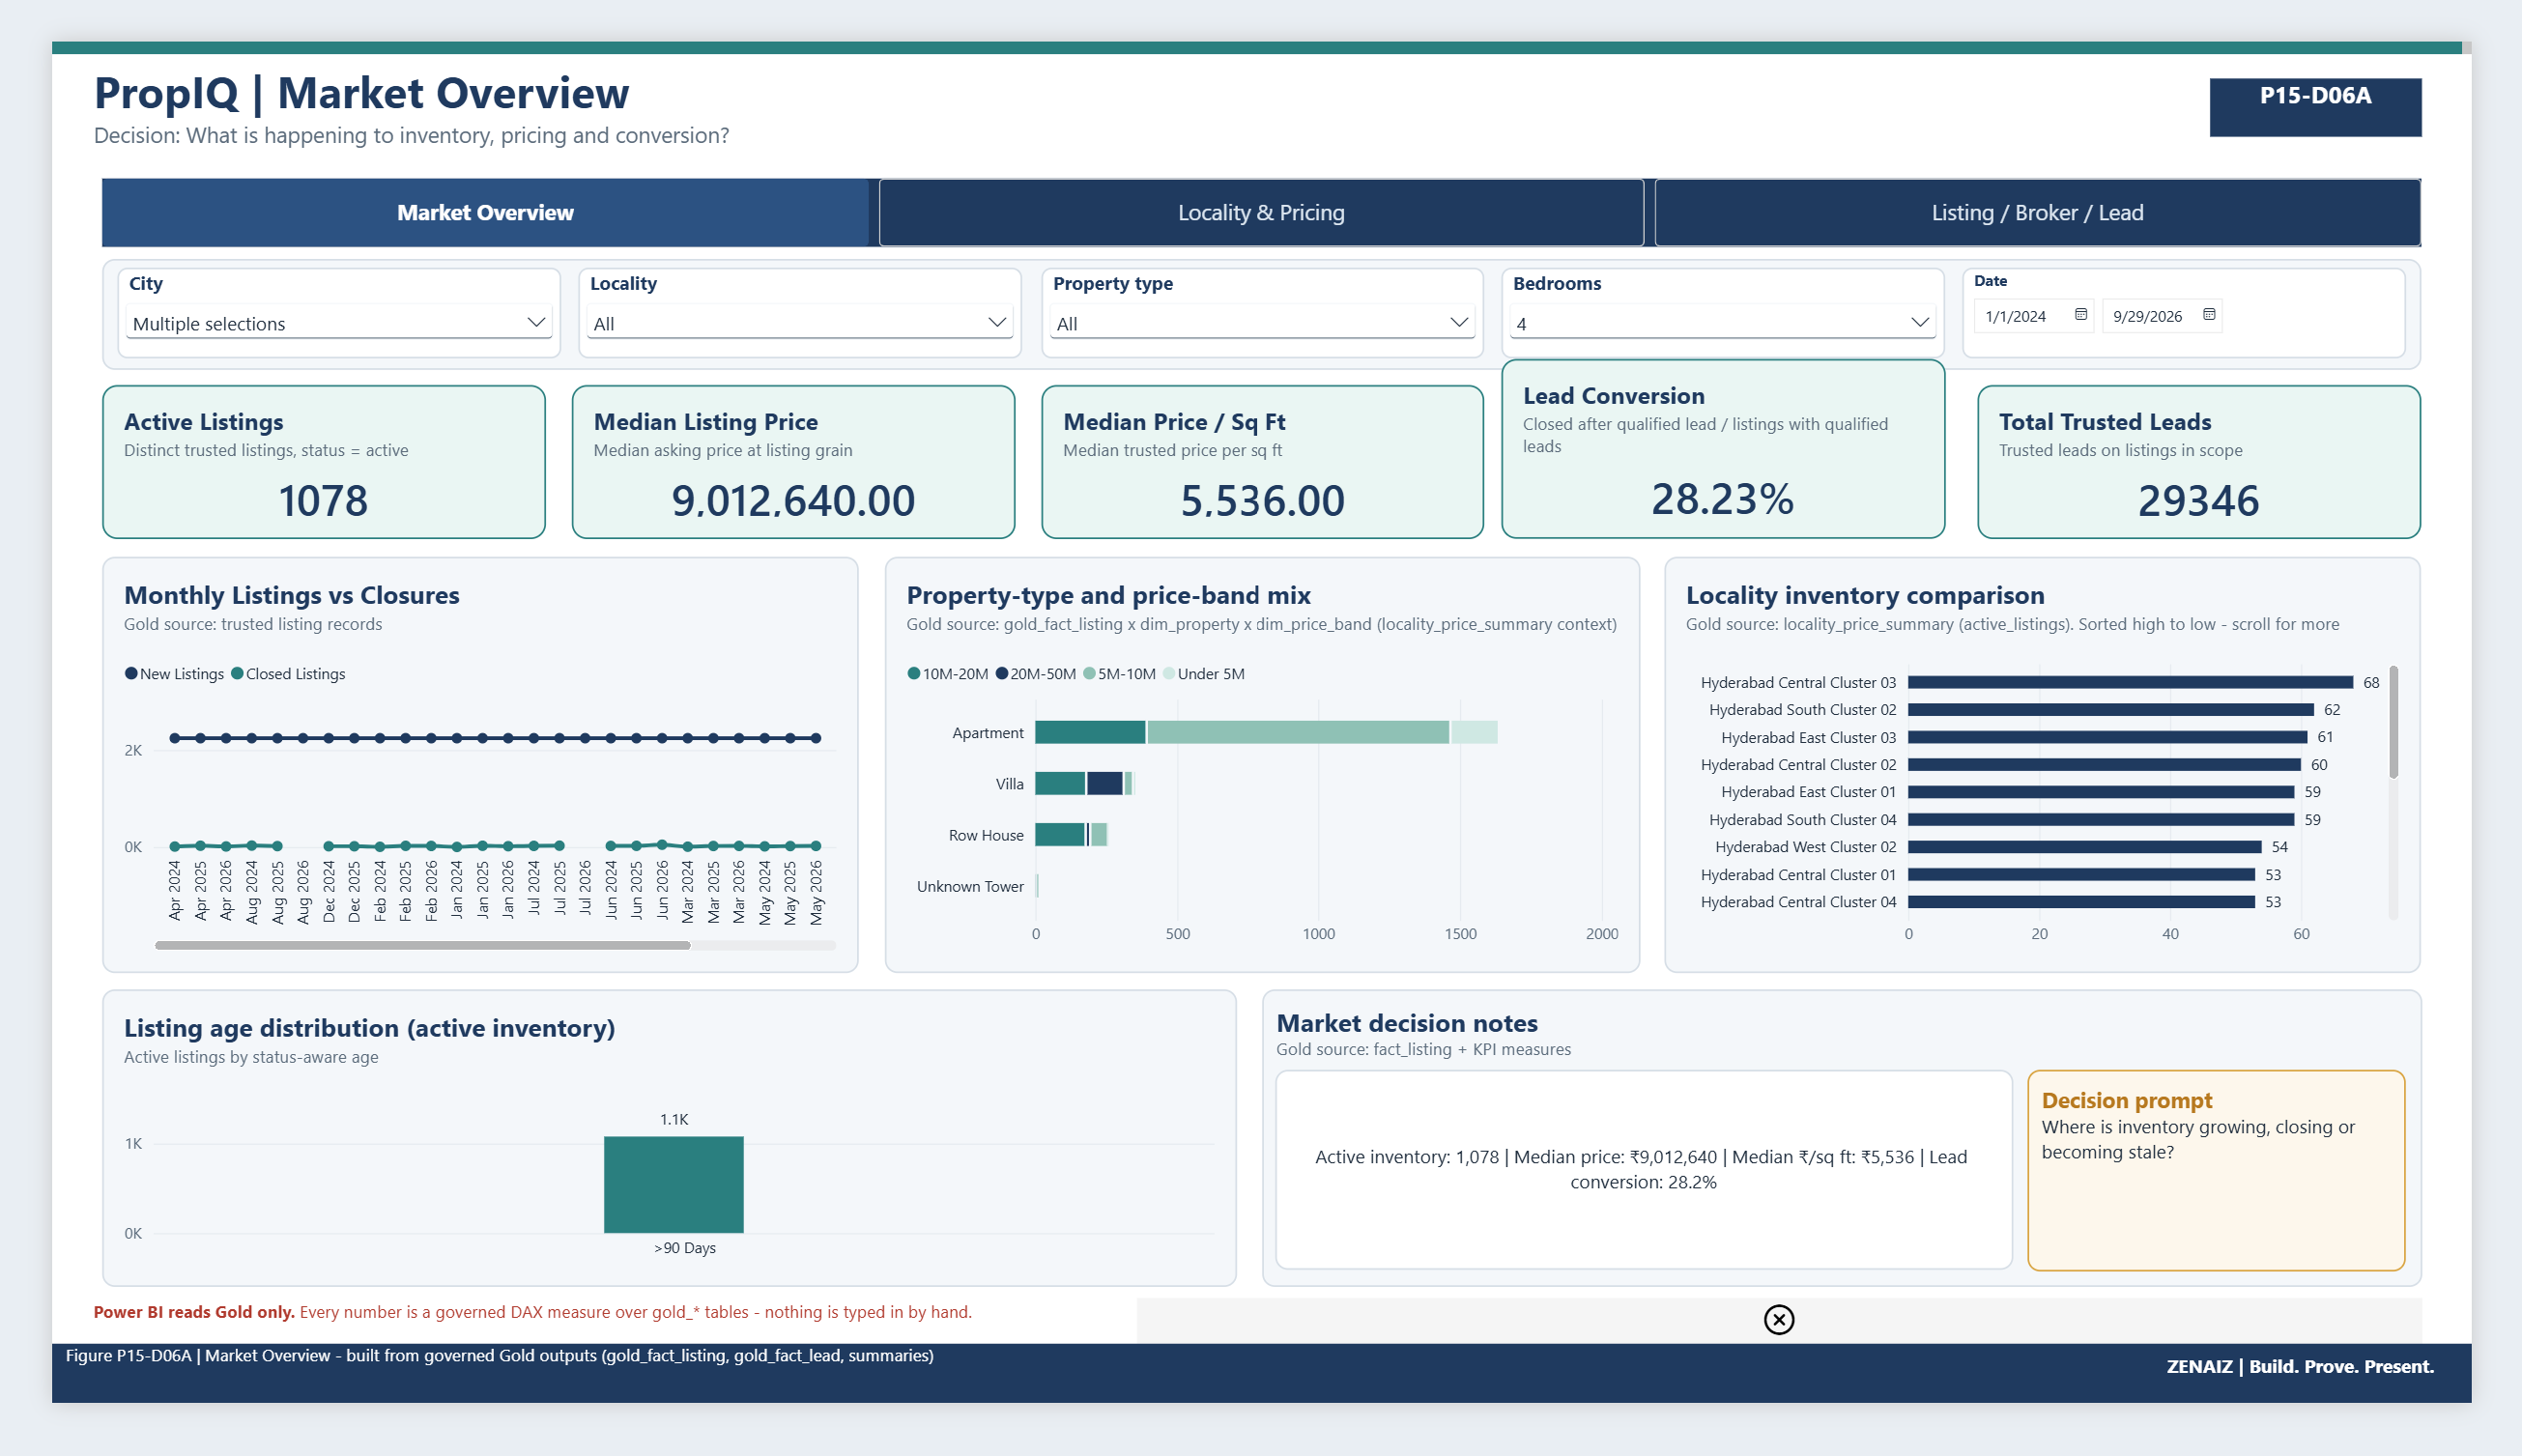

The dashboard page shown, as its layout file describes it:
{"tool":"powerbi","page":{"name":"Market Overview","canvas":[1920,1080],"ordinal":0},"visuals":[{"type":"actionButton","box":[0,0,100,40],"z":0},{"type":"textbox","box":[150,800,300,280],"z":1000},{"type":"textbox","box":[0,180,150,300],"z":2000},{"type":"textbox","box":[0,490,150,300],"z":3000},{"type":"textbox","box":[0,800,150,280],"z":4000},{"type":"textbox","box":[600,490,300,300],"z":5000},{"type":"textbox","box":[600,800,300,280],"z":6000},{"type":"textbox","box":[450,490,150,300],"z":7000},{"type":"textbox","box":[450,800,150,280],"z":8000},{"type":"textbox","box":[1220,800,300,280],"z":9000},{"type":"textbox","box":[1816.9,1064.1,12.7,16.3],"z":10000},{"type":"textbox","box":[0,0,1920.1,85.1],"z":11000},{"type":"slicer","fields":{"Values":["gold_dim_locality.city"]},"box":[34.1,227.1,349.3,124.9],"z":12000},{"type":"slicer","fields":{"Values":["gold_dim_locality.locality_name"]},"box":[422.5,227.1,319.4,126.7],"z":13000},{"type":"slicer","fields":{"Values":["gold_dim_property.property_type"]},"box":[804,222.6,313.4,129.5],"z":14000},{"type":"slicer","fields":{"Values":["gold_dim_date.date_key"]},"box":[1240.1,227.1,288.5,134],"z":15000},{"type":"cardVisual","title":"Total Trusted Leads","fields":{"Data":["CountNonNull(gold_fact_lead.lead_id)"]},"box":[1544.5,404.3,352.1,147.6],"z":16000},{"type":"lineChart","title":"Monthly listing vs closure trend","fields":{"Category":["gold_fact_listing.listing_created_date.Variation.Date Hierarchy.Month"],"Series":["gold_fact_listing.is_completed"],"Y":["CountNonNull(gold_fact_listing.listing_id)"]},"box":[65.9,572.4,459.8,258.8],"z":17000},{"type":"clusteredColumnChart","title":"Property-type and price-band mix","fields":{"Category":["gold_dim_property.property_type"],"Series":["gold_dim_price_band.price_band"],"Y":["CountNonNull(gold_fact_listing.listing_id)"]},"box":[661,572.4,517.6,258.8],"z":18000},{"type":"clusteredBarChart","title":"Locality inventory comparison","fields":{"Category":["gold_locality_price_summary.locality_name"],"Y":["Sum(gold_locality_price_summary.active_listings)"]},"box":[1321.9,567.8,413.4,268],"z":19000},{"type":"clusteredColumnChart","title":"Listing age distribution","fields":{"Category":["gold_fact_listing.days_on_market_status_aware (bins)"],"Y":["CountNonNull(gold_fact_listing.listing_id)"]},"box":[75,851.7,458.8,227.1],"z":20000},{"type":"textbox","box":[717.7,906.3,720,165.8],"z":22000},{"type":"cardVisual","title":"ACTIVE LISTINGS.","fields":{"Data":["Sum(gold_locality_price_summary.active_listings)"]},"box":[52.2,392.9,311.3,148.4],"z":22001},{"type":"cardVisual","title":"MEDIAN LISTING PRICE","fields":{"Data":["Median(gold_locality_price_summary.median_listing_price)"]},"box":[422.5,402,329.3,149.9],"z":22002},{"type":"cardVisual","title":"MEDIAN PRICE / SQ FT","fields":{"Data":["Median(gold_locality_price_summary.median_price_per_sqft)"]},"box":[824.5,404.3,329.3,149.9],"z":22003},{"type":"cardVisual","title":"LEAD CONVERSION","fields":{"Data":["Avg(gold_lead_conversion_summary.lead_conversion_rate_pct)"]},"box":[1203.8,404.3,300,150],"z":22004},{"type":"pageNavigator","box":[495.1,113.6,1033.4,84],"z":22005}]}

Visuals, with their boxes in screenshot pixels (x1, y1, x2, y2), scaled from the page's 1920x1080 canvas onto the 2522x1456 screenshot:
actionButton: BBox(0, 0, 131, 54)
textbox: BBox(197, 1078, 591, 1455)
textbox: BBox(0, 243, 197, 647)
textbox: BBox(0, 661, 197, 1065)
textbox: BBox(0, 1078, 197, 1455)
textbox: BBox(788, 661, 1182, 1065)
textbox: BBox(788, 1078, 1182, 1455)
textbox: BBox(591, 661, 788, 1065)
textbox: BBox(591, 1078, 788, 1455)
textbox: BBox(1602, 1078, 1996, 1455)
textbox: BBox(2387, 1435, 2403, 1455)
textbox: BBox(0, 0, 2521, 115)
slicer - gold_dim_locality.city: BBox(44, 306, 503, 474)
slicer - gold_dim_locality.locality_name: BBox(555, 306, 975, 477)
slicer - gold_dim_property.property_type: BBox(1056, 300, 1468, 474)
slicer - gold_dim_date.date_key: BBox(1629, 306, 2008, 487)
"Total Trusted Leads" cardVisual: BBox(2029, 545, 2491, 744)
"Monthly listing vs closure trend" lineChart: BBox(87, 772, 691, 1121)
"Property-type and price-band mix" clusteredColumnChart: BBox(869, 772, 1548, 1121)
"Locality inventory comparison" clusteredBarChart: BBox(1736, 765, 2279, 1127)
"Listing age distribution" clusteredColumnChart: BBox(99, 1148, 702, 1454)
textbox: BBox(943, 1222, 1888, 1445)
"ACTIVE LISTINGS." cardVisual: BBox(69, 529, 477, 729)
"MEDIAN LISTING PRICE" cardVisual: BBox(555, 542, 988, 744)
"MEDIAN PRICE / SQ FT" cardVisual: BBox(1083, 545, 1515, 747)
"LEAD CONVERSION" cardVisual: BBox(1581, 545, 1975, 747)
pageNavigator: BBox(650, 154, 2008, 267)
